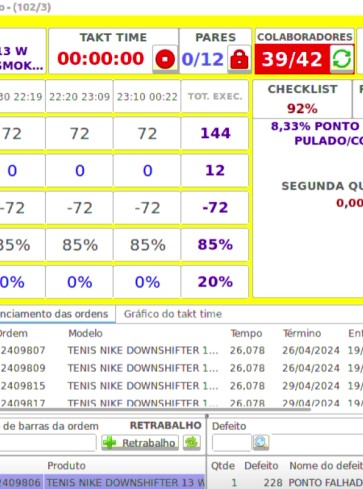takt_time: (52, 28, 151, 71)
